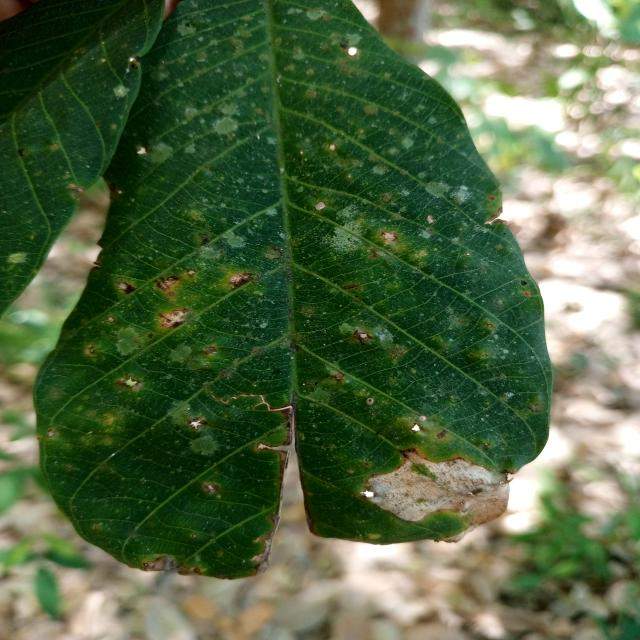Colletotrichum: (106, 316, 115, 323), (114, 277, 123, 283), (131, 63, 138, 70), (486, 323, 493, 328), (192, 533, 197, 538), (143, 562, 148, 567), (484, 442, 489, 447), (482, 354, 488, 358), (460, 502, 464, 505)
Leaf-Blight: (364, 450, 514, 543)
